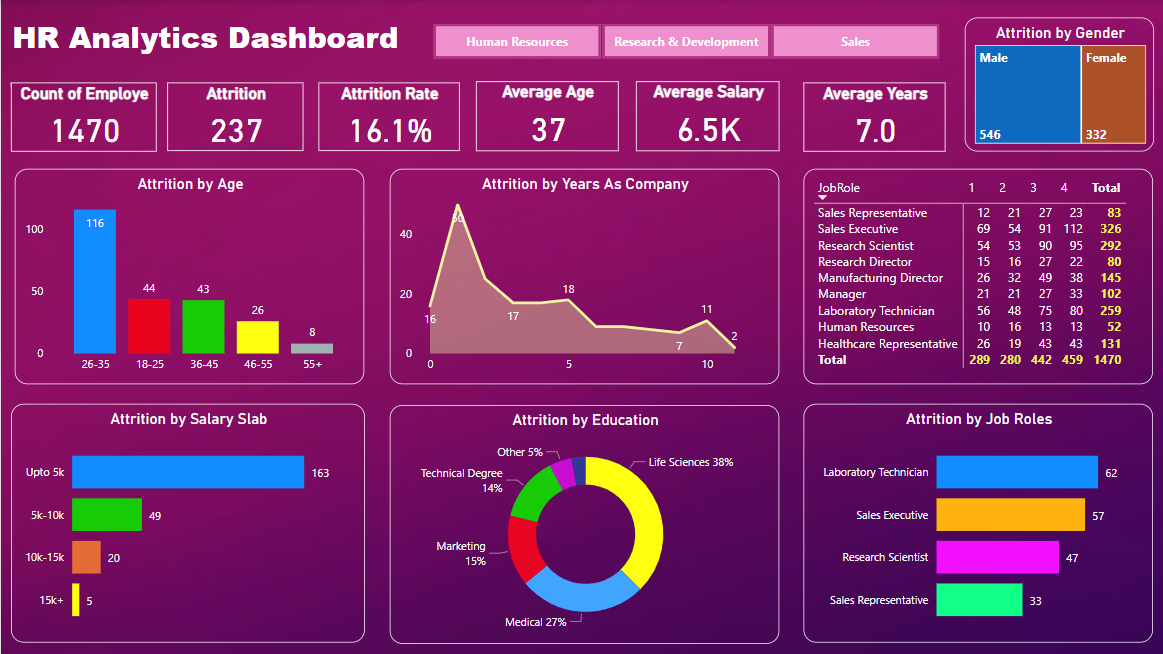

The dashboard page shown, as its layout file describes it:
{"tool":"powerbi","page":{"name":"Dashboard","canvas":[1280,720],"ordinal":0},"visuals":[{"type":"card","title":"Count of Employe","fields":{"Values":["Count(HR_Analytics.EmpID)"]},"box":[10.6,91.1,160,75.9],"z":0},{"type":"card","title":"Average Age","fields":{"Values":["Avg(HR_Analytics.Age)"]},"box":[521.9,89.3,156.6,76.9],"z":1000},{"type":"card","title":"Attrition Rate","fields":{"Values":["HR_Analytics.Attrition_rate"]},"box":[348.8,90.6,155.2,75.5],"z":2000},{"type":"card","title":"Attrition","fields":{"Values":["Sum(HR_Analytics.Attrition_count)"]},"box":[182.7,90.6,149.7,75.5],"z":3000},{"type":"card","title":"Average Salary ","fields":{"Values":["Avg(HR_Analytics.MonthlyIncome)"]},"box":[697.7,89.3,157.9,76.9],"z":4000},{"type":"card","title":"Average Years","fields":{"Values":["Avg(HR_Analytics.YearsAtCompany)"]},"box":[882.2,91.1,156.4,75.9],"z":5000},{"type":"donutChart","title":"Attrition by Education","fields":{"Category":["HR_Analytics.EducationField"],"Y":["Sum(HR_Analytics.Attrition_count)"]},"box":[426.7,444.9,428.2,262.7],"z":6000},{"type":"columnChart","title":"Attrition by Age","fields":{"Category":["HR_Analytics.AgeGroup"],"Y":["Sum(HR_Analytics.Attrition_count)"]},"box":[15.2,185.2,384.2,236.9],"z":7000},{"type":"pivotTable","fields":{"Rows":["HR_Analytics.JobRole"],"Columns":["HR_Analytics.JobSatisfaction"],"Values":["Sum(HR_Analytics.EmployeeCount)"]},"box":[882.2,185.2,384.2,236.9],"z":8000},{"type":"barChart","title":"Attrition by Salary Slab","fields":{"Category":["HR_Analytics.SalarySlab"],"Y":["Sum(HR_Analytics.Attrition_count)"]},"box":[10.6,443.4,388.7,262.7],"z":9000},{"type":"barChart","title":"Attrition by Job Roles","fields":{"Category":["HR_Analytics.JobRole"],"Y":["Sum(HR_Analytics.Attrition_count)"]},"box":[882.2,443.4,384.2,262.7],"z":10000},{"type":"areaChart","title":"Attrition by Years As Company","fields":{"Category":["HR_Analytics.YearsAtCompany"],"Y":["Sum(HR_Analytics.Attrition_count)"]},"box":[426.7,185.2,428.2,236.9],"z":11000},{"type":"treemap","title":"Attrition by Gender","fields":{"Group":["HR_Analytics.Gender"],"Values":["Sum(HR_Analytics.EmployeeCount)"]},"box":[1058.3,19.7,208,147.3],"z":12000},{"type":"slicer","fields":{"Values":["HR_Analytics.Department"]},"box":[449.4,19.7,605.8,51.6],"z":13000},{"type":"textbox","box":[0,12.4,449.1,59.1],"z":14000}]}

Visuals, with their boxes in screenshot pixels (x1, y1, x2, y2), scaled from the page's 1280x720 canvas onto the 1163x654 screenshot:
"Count of Employe" card: 10, 83, 155, 152
"Average Age" card: 474, 81, 616, 151
"Attrition Rate" card: 317, 82, 458, 151
"Attrition" card: 166, 82, 302, 151
"Average Salary " card: 634, 81, 777, 151
"Average Years" card: 802, 83, 944, 152
"Attrition by Education" donutChart: 388, 404, 777, 643
"Attrition by Age" columnChart: 14, 168, 363, 383
pivotTable - HR_Analytics.JobRole x HR_Analytics.JobSatisfaction: 802, 168, 1151, 383
"Attrition by Salary Slab" barChart: 10, 403, 363, 641
"Attrition by Job Roles" barChart: 802, 403, 1151, 641
"Attrition by Years As Company" areaChart: 388, 168, 777, 383
"Attrition by Gender" treemap: 962, 18, 1151, 152
slicer - HR_Analytics.Department: 408, 18, 959, 65
textbox: 0, 11, 408, 65
